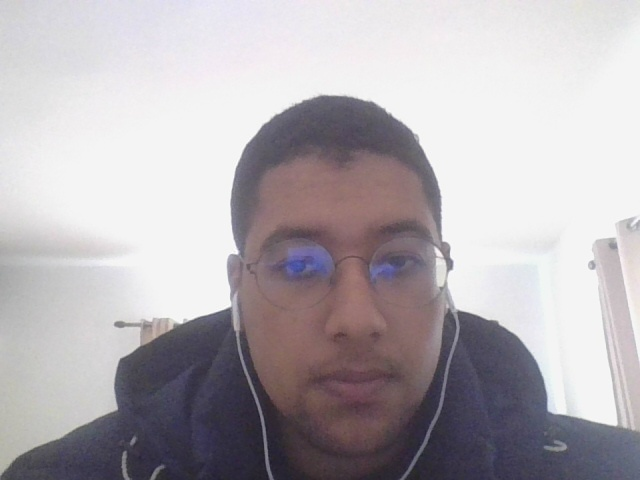real: (196, 55, 493, 476)
